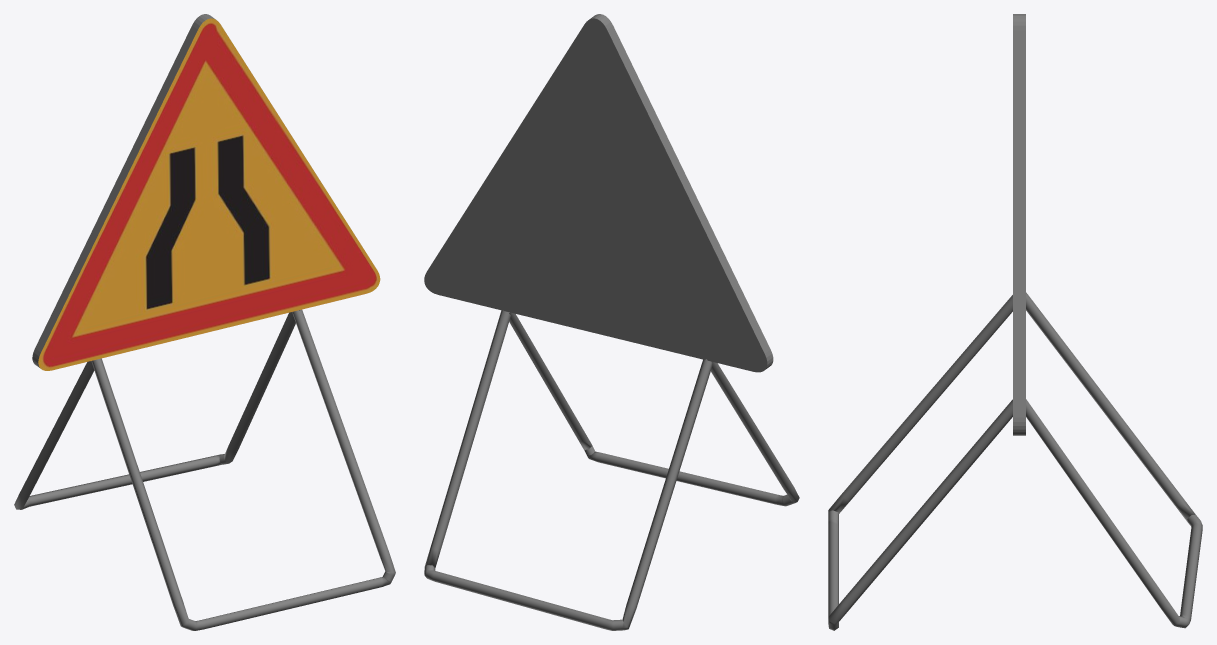
The model's file is panneau chaussée.fbx.
3 views of the same model, side by side, from view 1: azimuth 30°, elevation 25°; view 2: azimuth 150°, elevation 25°; view 3: azimuth 270°, elevation 25° (orthographic). The views are drawn at different scales.
Visible parts, largest first — view 1: NurbsPath.001; view 2: NurbsPath.001; view 3: NurbsPath.001.
Boxes of the visible parts, box(x1,y1,x2,y2) form: NurbsPath.001: box(14, 14, 395, 630); NurbsPath.001: box(424, 14, 799, 630); NurbsPath.001: box(828, 14, 1202, 630).
Size of the model in its own units: 65.92 by 97.4 by 58.32.
Materials: 3 (1 with a texture image).
